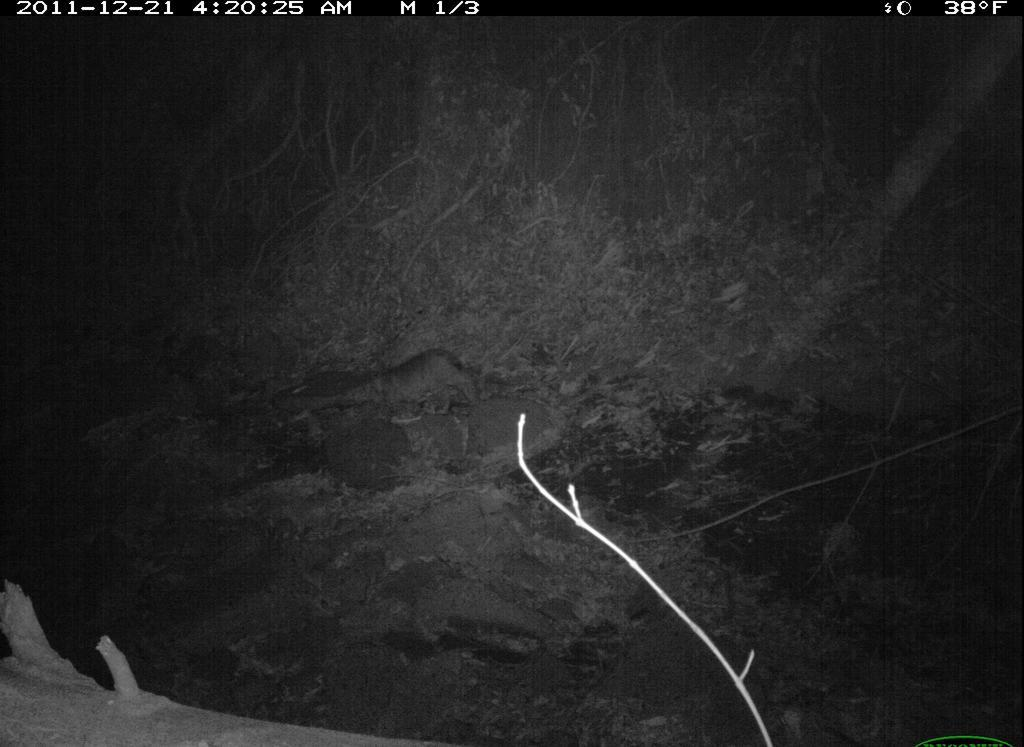bobcat: (340, 344, 484, 423)
